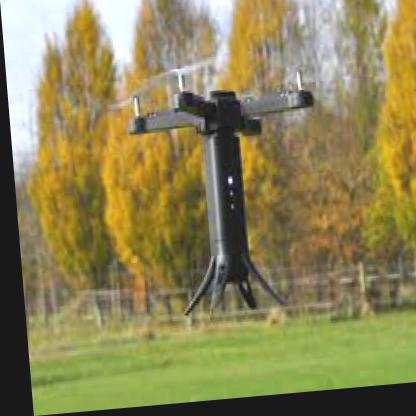UAS: (124, 68, 325, 320)
